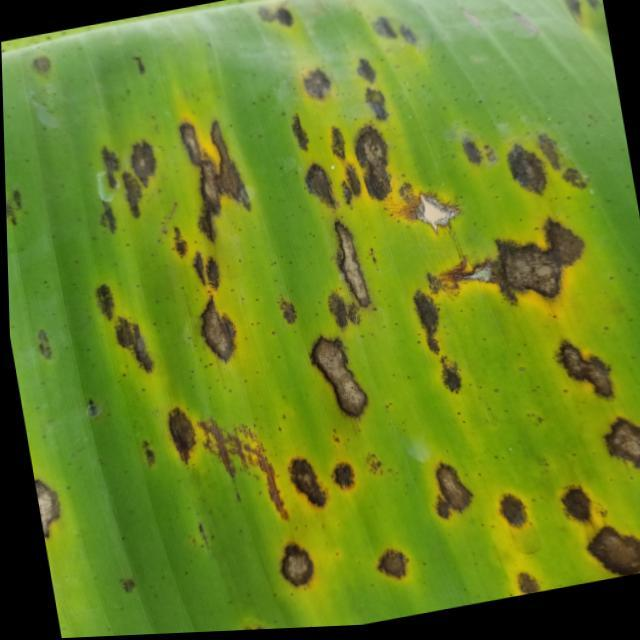Early_rust: (0, 3, 640, 589)
